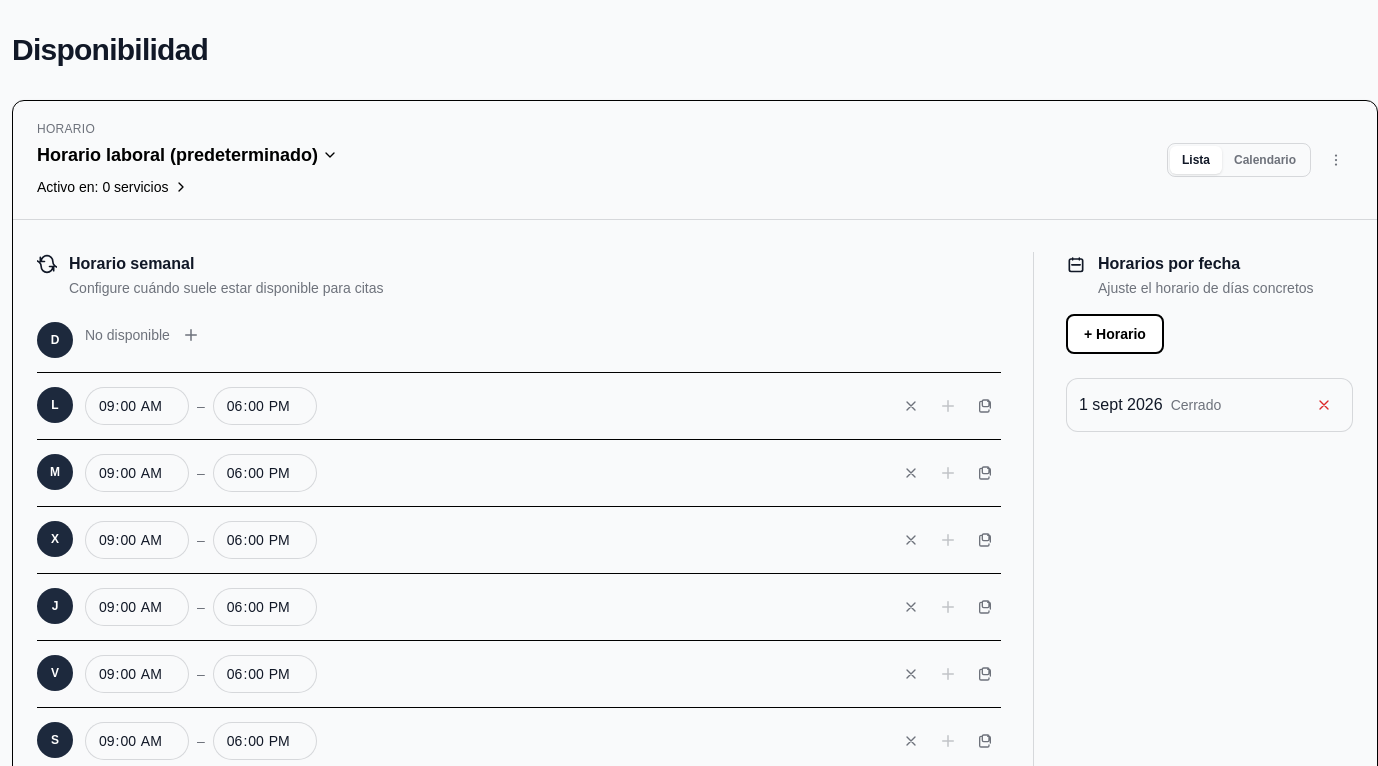
AdminAvailabilityPage › shows a top-level error when exception deletion fails
The image size is (1378, 766).
What coordinates should you click on to do the following:
click the button named "Eliminar excepción del 2026-09-01"
I would click on:
 (1324, 405)
Its box is [1308,389,1340,421].
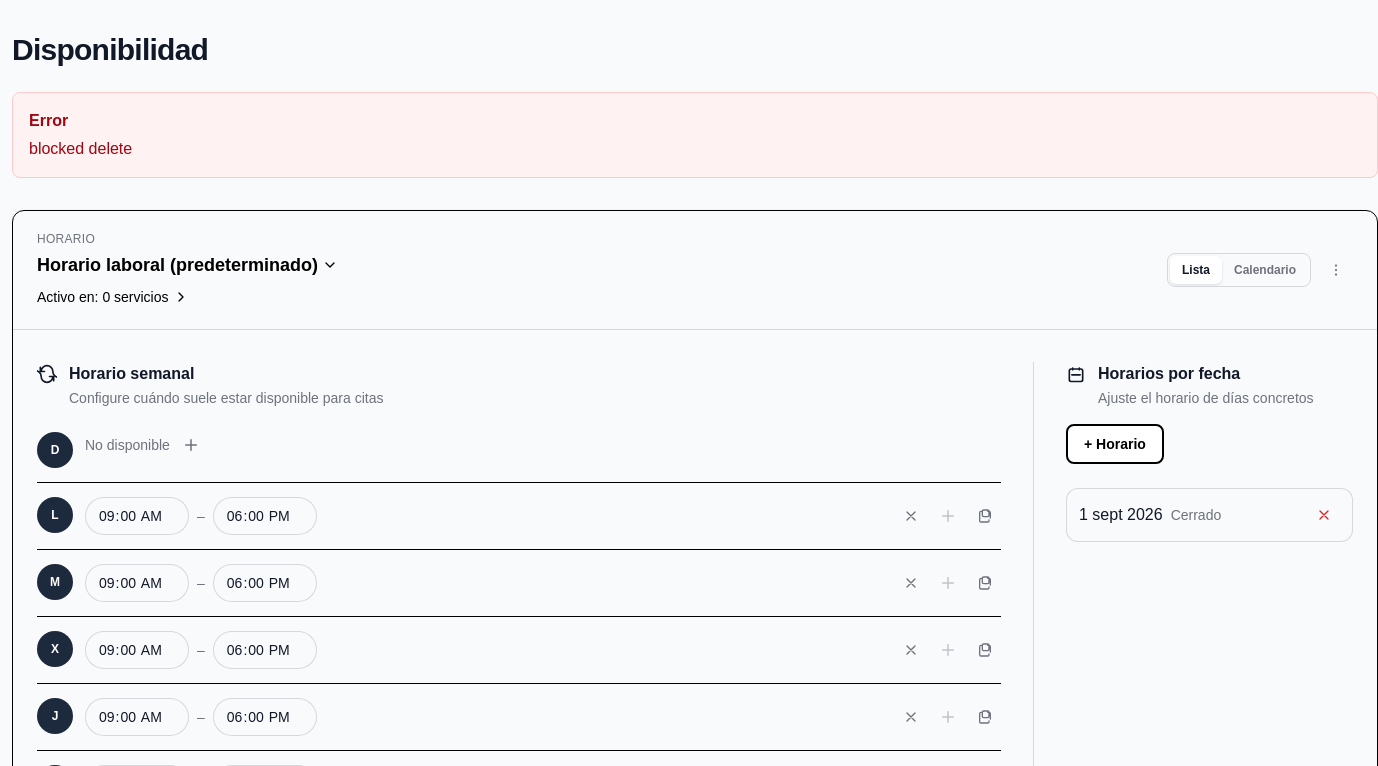
Check: the text "blocked delete" is shown, box [29,140,132,157]
